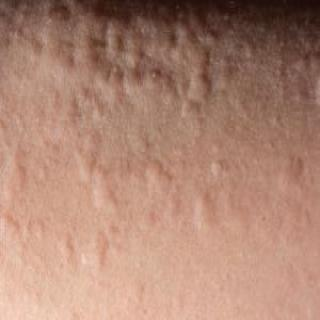urticaria: (13, 14, 309, 109), (136, 148, 191, 232), (203, 143, 246, 241), (69, 137, 121, 218), (44, 231, 126, 269), (276, 151, 313, 193), (2, 206, 31, 259)
